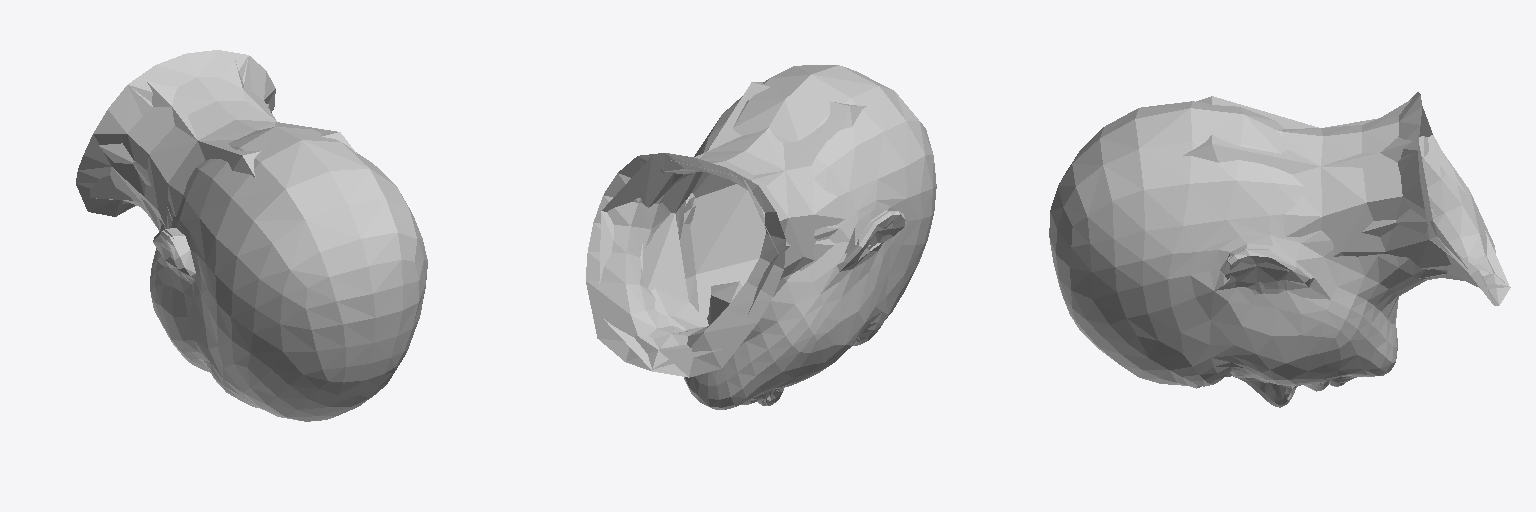
Rendered from head_000_r.obj.
The picture shows the model from 3 angles: view 1: azimuth 30°, elevation 25°; view 2: azimuth 150°, elevation 25°; view 3: azimuth 270°, elevation 25°; orthographic projection.
Visible parts, largest first — view 1: head_000_r_high_1, head_000_r_med_1, head_000_r_low_1; view 2: head_000_r_high_1, head_000_r_low_1, head_000_r_med_1; view 3: head_000_r_high_1, head_000_r_med_1, head_000_r_low_1.
Part boxes in pixels (x1,y1,x2,y2): head_000_r_high_1: (76, 54, 427, 421); head_000_r_med_1: (76, 50, 276, 259); head_000_r_low_1: (90, 59, 356, 264); head_000_r_high_1: (586, 65, 936, 409); head_000_r_low_1: (599, 82, 870, 369); head_000_r_med_1: (594, 127, 893, 375); head_000_r_high_1: (1049, 92, 1510, 407); head_000_r_med_1: (1220, 92, 1509, 304); head_000_r_low_1: (1183, 96, 1509, 293).
Bounding box in the file's own units: 0.1719 × 0.225 × 0.3137.